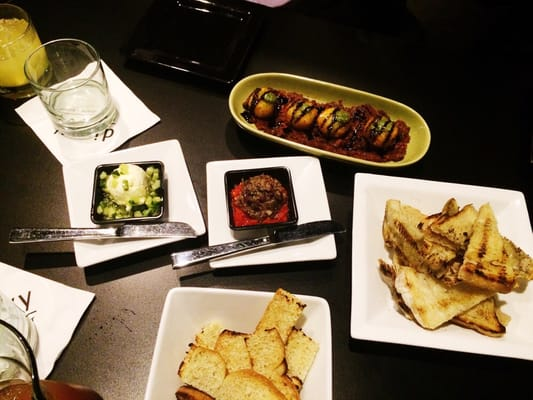sushi: (141, 287, 331, 400), (228, 70, 432, 168)
